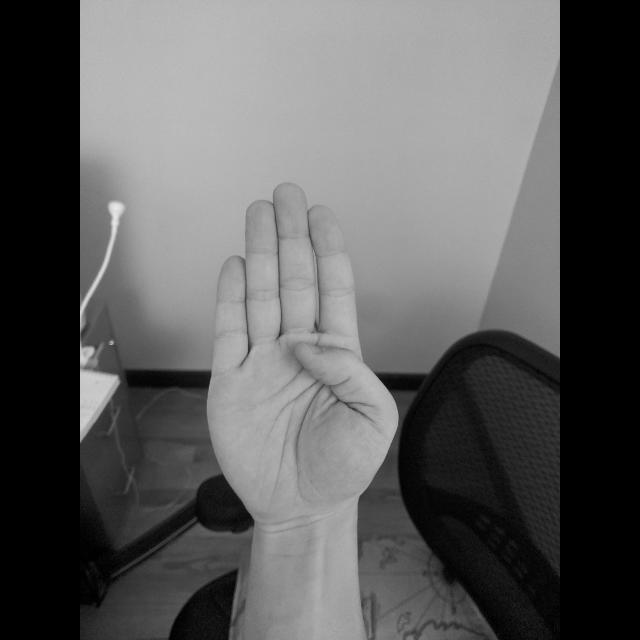B: (194, 176, 406, 544)
